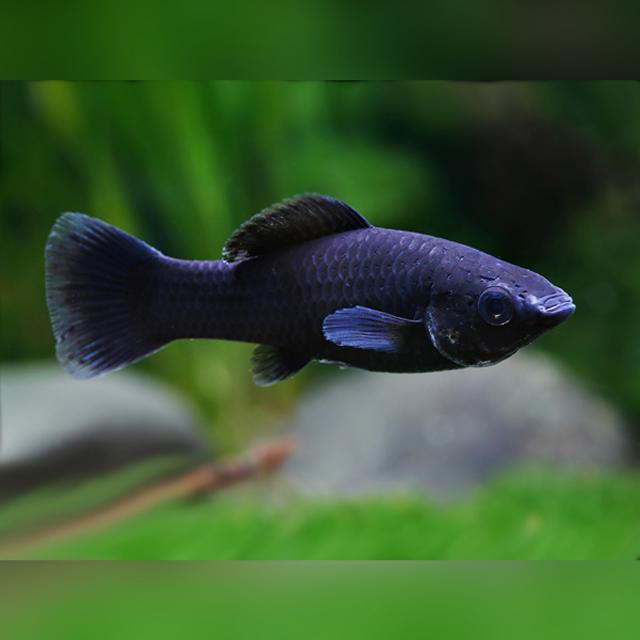Mulut: (517, 260, 593, 362)
Sirip Anal: (242, 331, 308, 404)
Sirip Dada: (316, 296, 428, 372)
Sirip Ekor: (23, 187, 178, 405)
Sirip Punggung: (208, 183, 370, 274)
